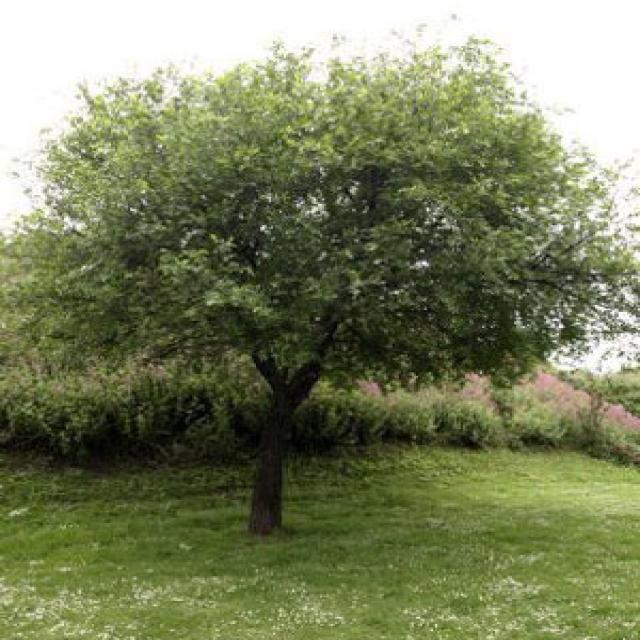olmo: (14, 36, 628, 534)
